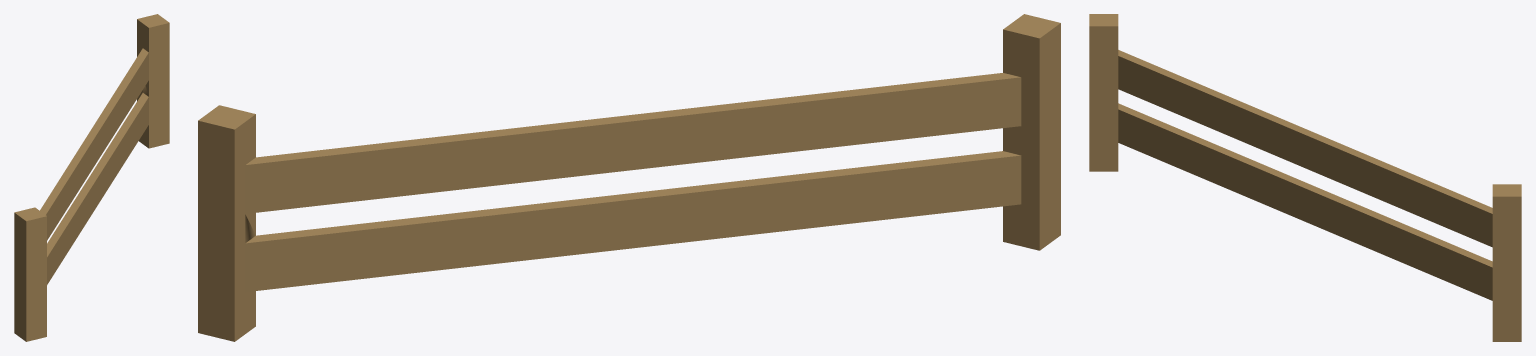
Rendered from naturePack_047.obj.
The picture shows the model from 3 angles, left to right: view 1: azimuth 30°, elevation 25°; view 2: azimuth 150°, elevation 25°; view 3: azimuth 270°, elevation 25°; orthographic projection. The views are drawn at different scales.
Parts seen in each view (by area): view 1: Mesh1_Group1_Model.036; view 2: Mesh1_Group1_Model.036; view 3: Mesh1_Group1_Model.036.
Boxes of the visible parts, x1,y1,x2,y2 form: Mesh1_Group1_Model.036: (14,14,169,341); Mesh1_Group1_Model.036: (198,14,1060,341); Mesh1_Group1_Model.036: (1089,14,1521,341).
Bounding box in the file's own units: 3 × 1.11 × 3.
